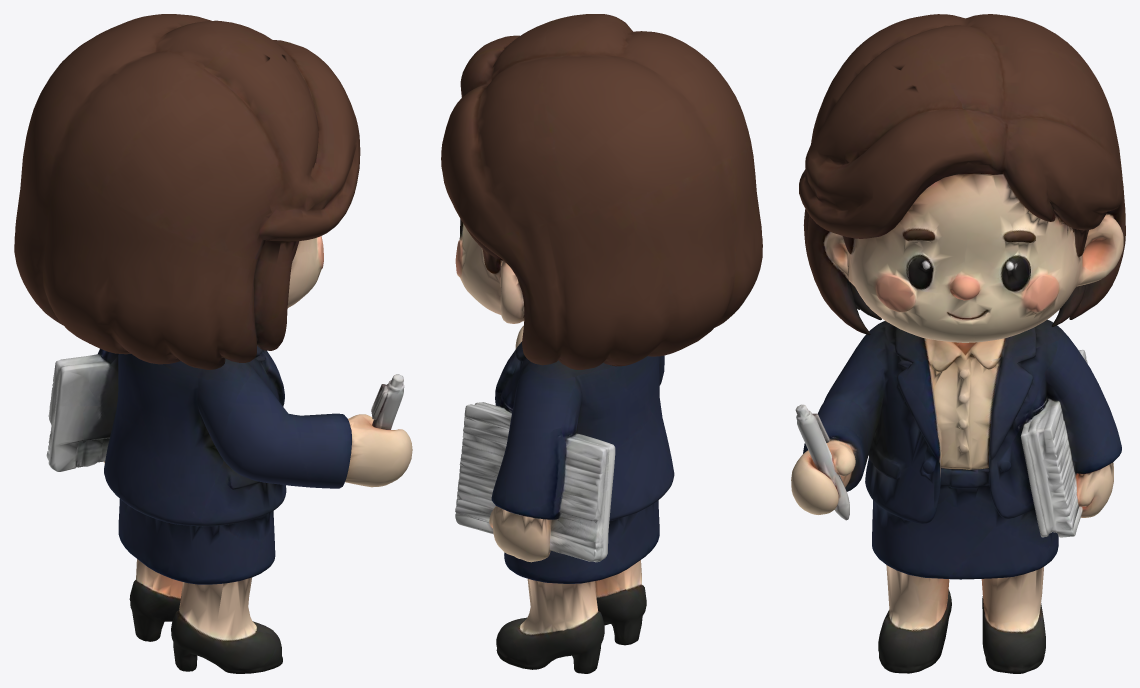
3 views of the same model, side by side, from view 1: azimuth 30°, elevation 25°; view 2: azimuth 150°, elevation 25°; view 3: azimuth 270°, elevation 25° (orthographic).
Visible parts, largest first — view 1: tripo_node_486fce4a-387a-4cc7-9d36-78aaee8e3383; view 2: tripo_node_486fce4a-387a-4cc7-9d36-78aaee8e3383; view 3: tripo_node_486fce4a-387a-4cc7-9d36-78aaee8e3383.
Boxes of the visible parts, x1=… form: tripo_node_486fce4a-387a-4cc7-9d36-78aaee8e3383: x1=14, y1=14, x2=412, y2=673; tripo_node_486fce4a-387a-4cc7-9d36-78aaee8e3383: x1=441, y1=14, x2=762, y2=673; tripo_node_486fce4a-387a-4cc7-9d36-78aaee8e3383: x1=791, y1=14, x2=1125, y2=673.
Bounding box in the file's own units: 0.4958 × 1 × 0.4911.
Materials: 1 (1 with a texture image).
